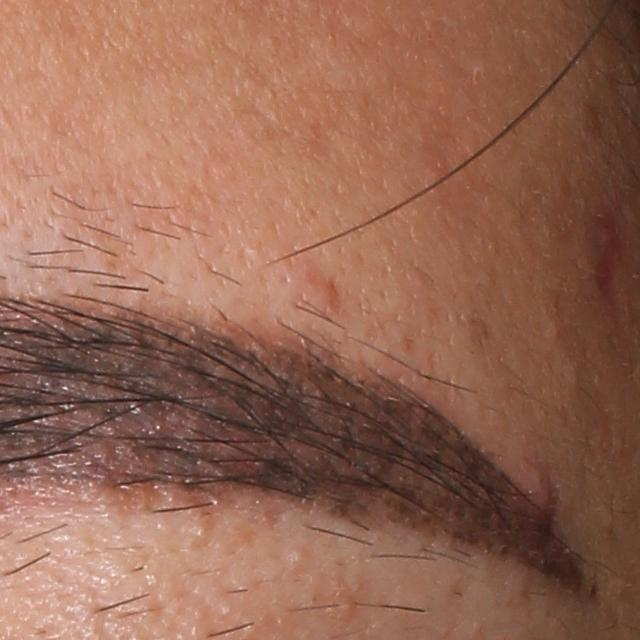atrophic_scar: (592, 218, 634, 310)
comedo: (285, 546, 311, 572)
papule: (287, 267, 346, 327), (522, 464, 566, 519)
